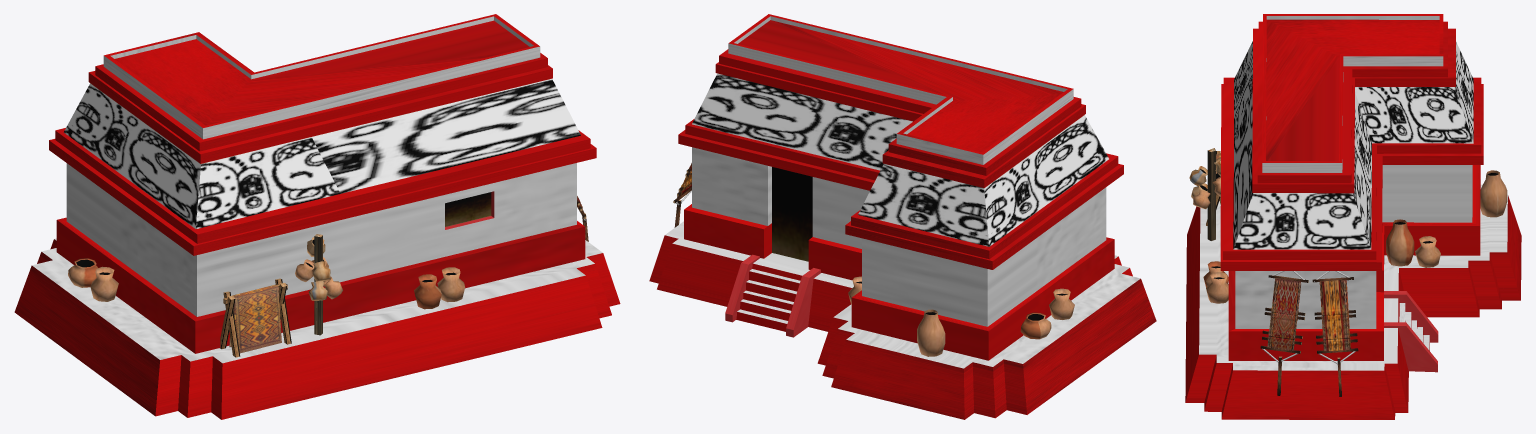
Rendered from house_nobre_1.dae.
3 renders of one model, left to right at view 1: azimuth 30°, elevation 25°; view 2: azimuth 150°, elevation 25°; view 3: azimuth 270°, elevation 25°, orthographic. The views are drawn at different scales.
Parts seen in each view (by area): view 1: house_nobre_1; view 2: house_nobre_1; view 3: house_nobre_1.
Boxes of the visible parts, x1,y1,x2,y2 form: house_nobre_1: [14, 14, 620, 419]; house_nobre_1: [649, 14, 1156, 419]; house_nobre_1: [1185, 14, 1521, 419].
Bounding box in the file's own units: 14.36 × 9.88 × 7.51.
